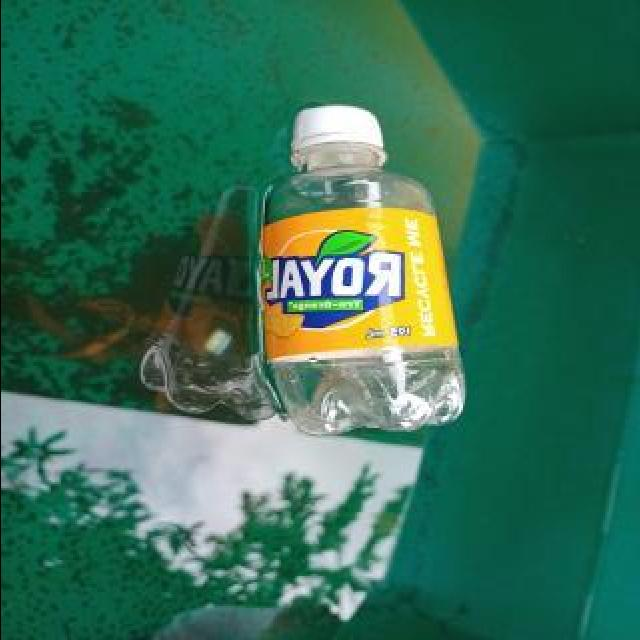Bottle: (248, 92, 476, 446)
